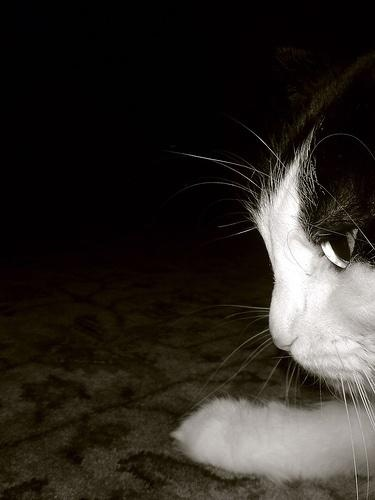cat: (173, 54, 375, 484)
